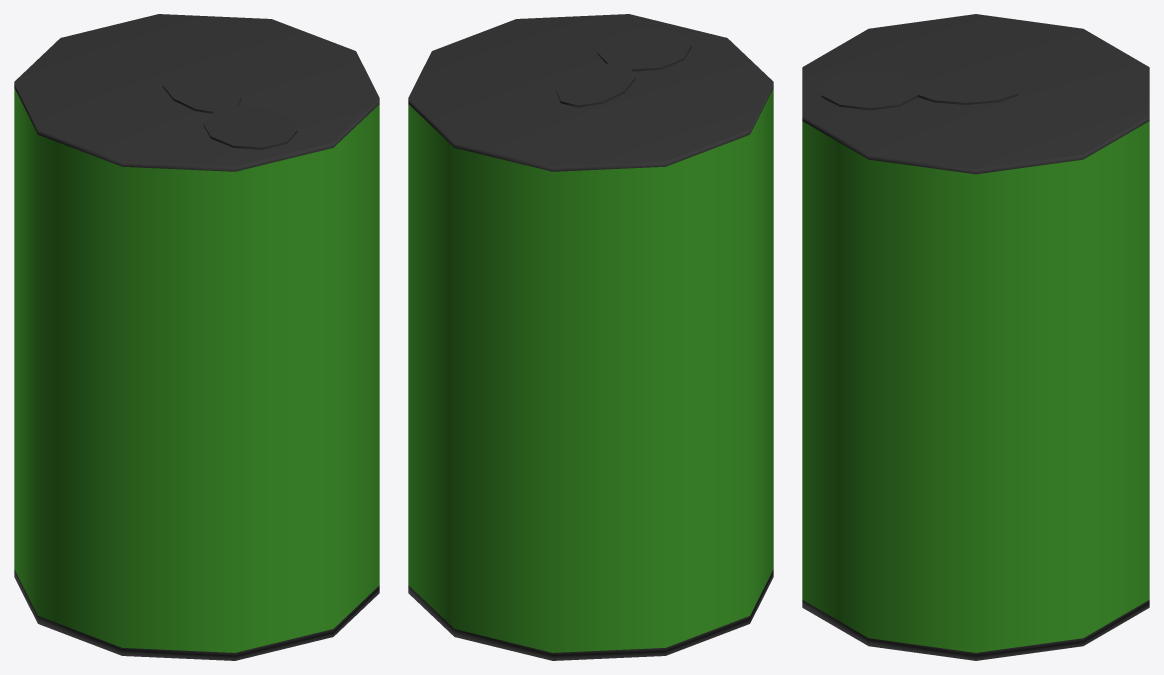
File: Hotdog GreenCan.fbx
3 views of the same model, side by side, from view 1: azimuth 30°, elevation 25°; view 2: azimuth 150°, elevation 25°; view 3: azimuth 270°, elevation 25° (orthographic).
Parts seen in each view (by area): view 1: pasted__polySurface376; view 2: pasted__polySurface376; view 3: pasted__polySurface376.
Boxes of the visible parts, box(x1,y1,x2,y2) form: pasted__polySurface376: box(14, 14, 379, 660); pasted__polySurface376: box(408, 14, 773, 660); pasted__polySurface376: box(802, 14, 1149, 660).
Size of the model in its own units: 0.1097 by 0.1638 by 0.1043.
